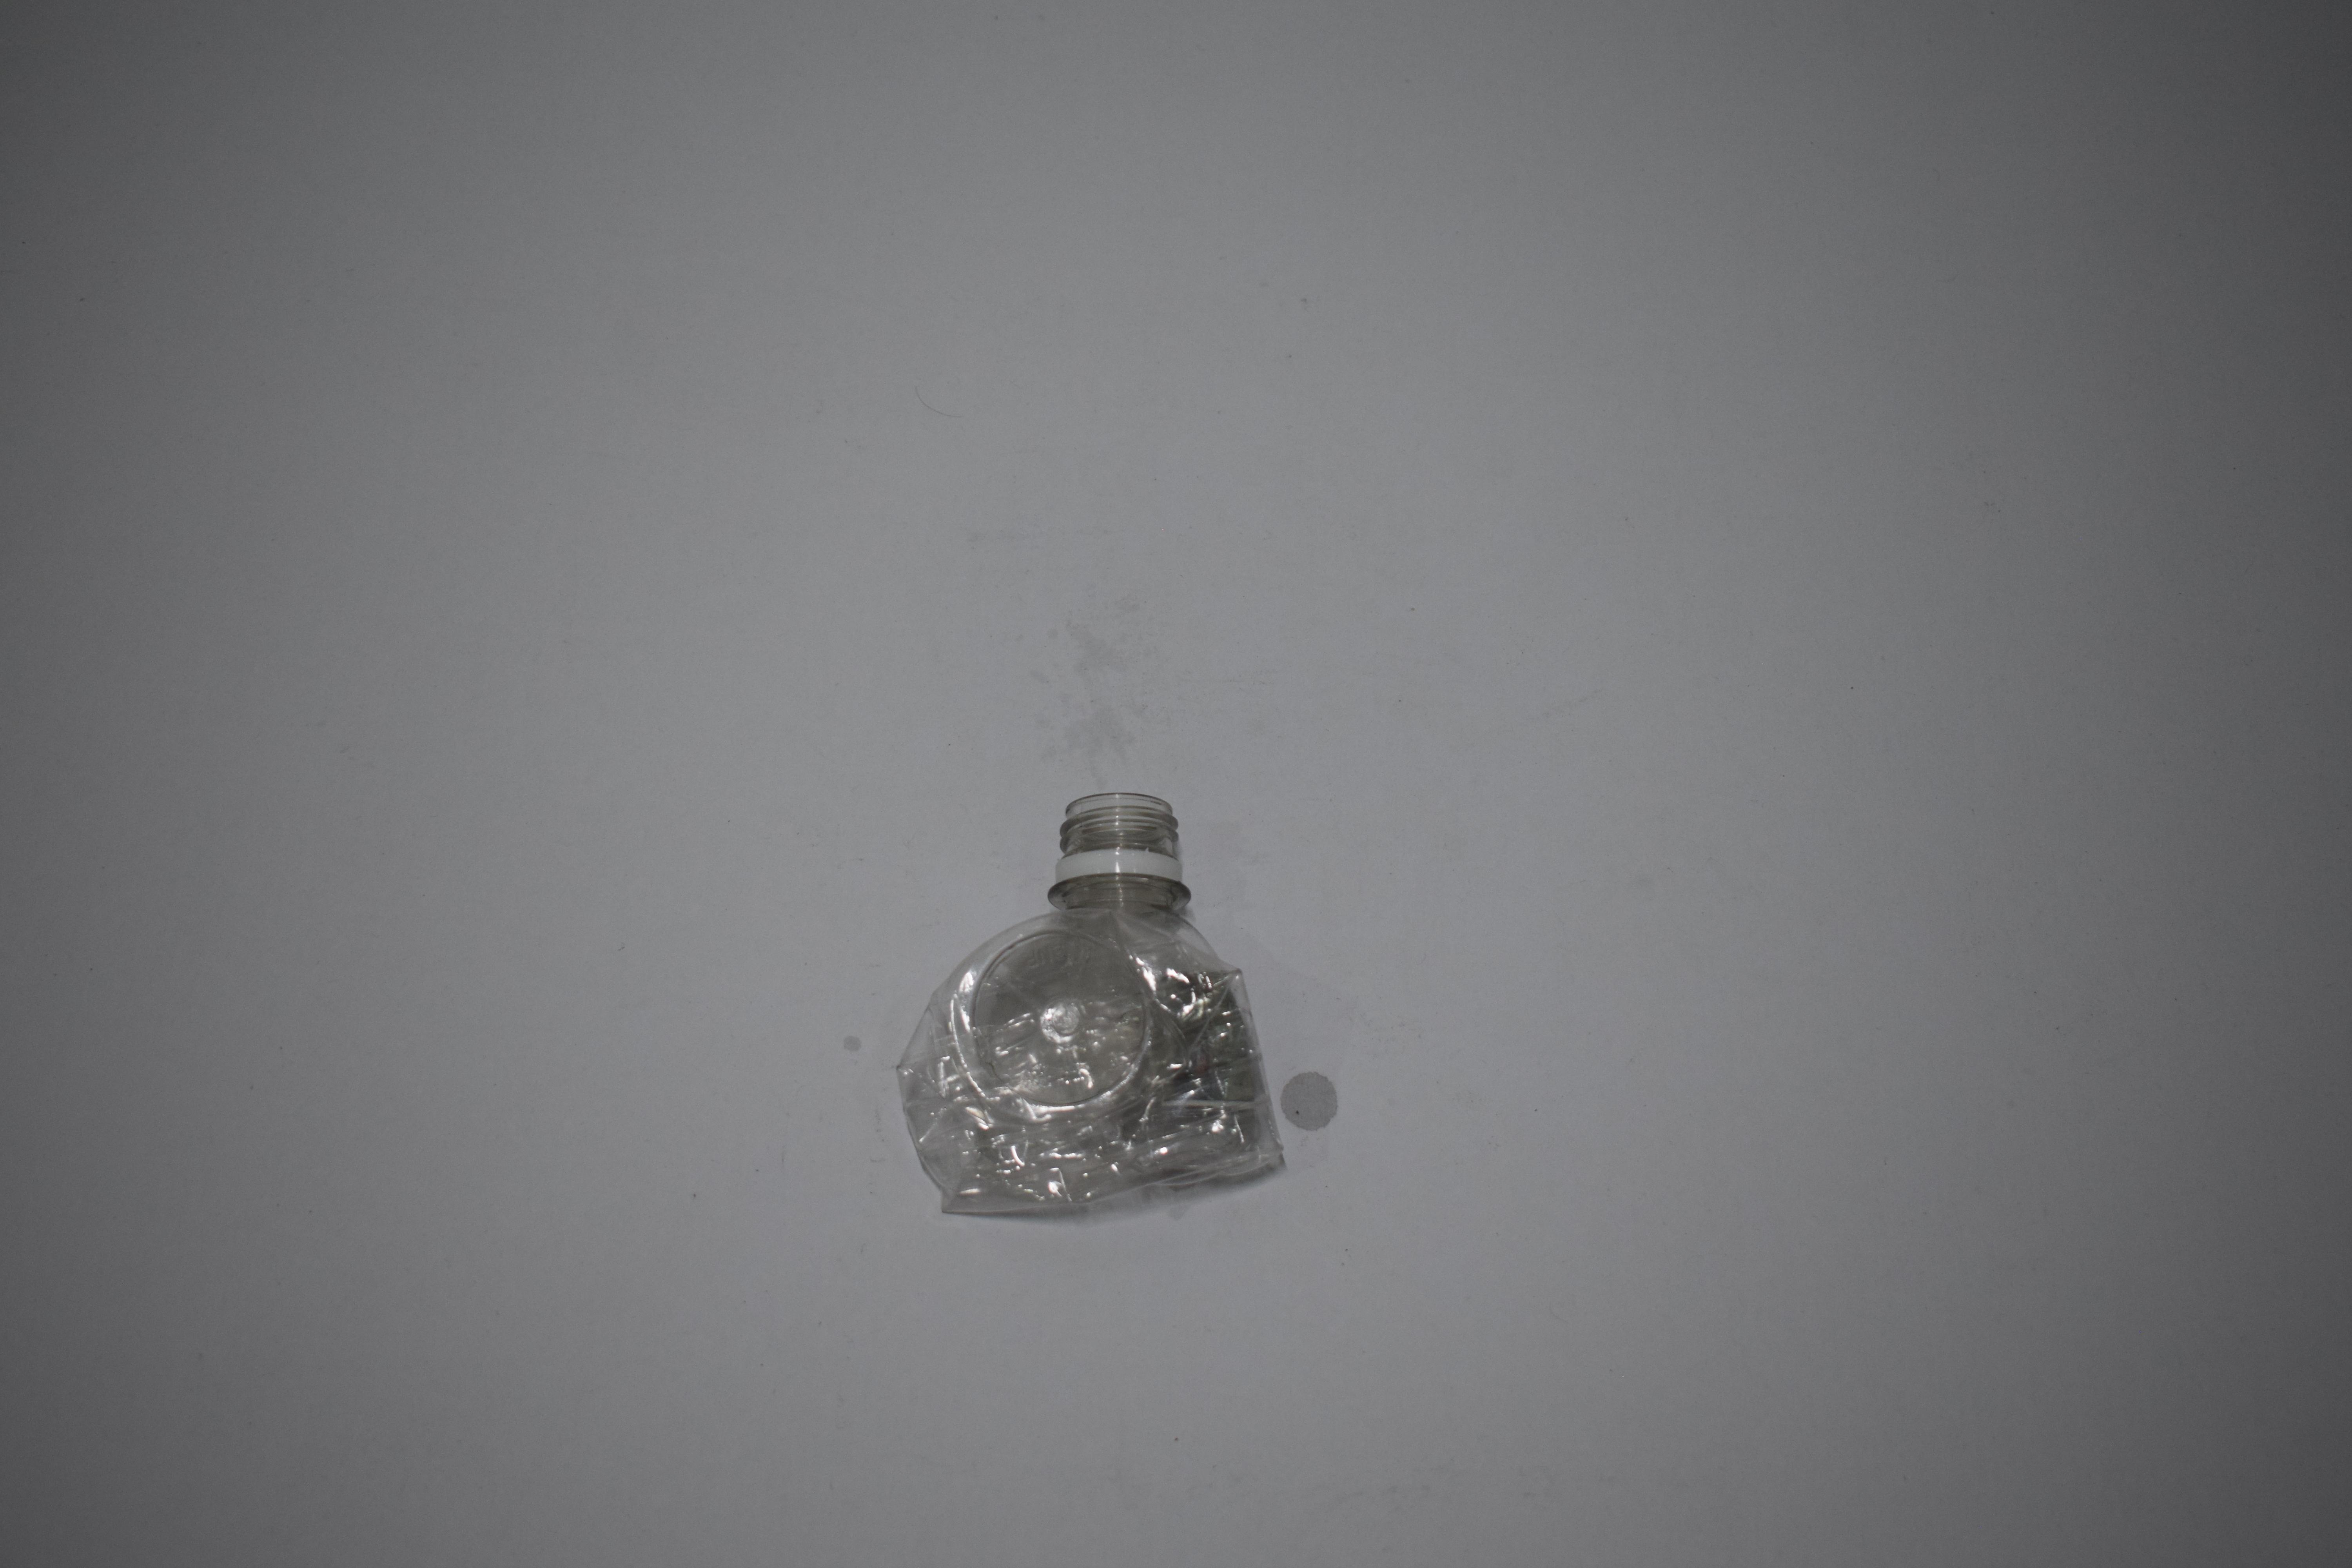bottle: (889, 781, 1293, 1230)
